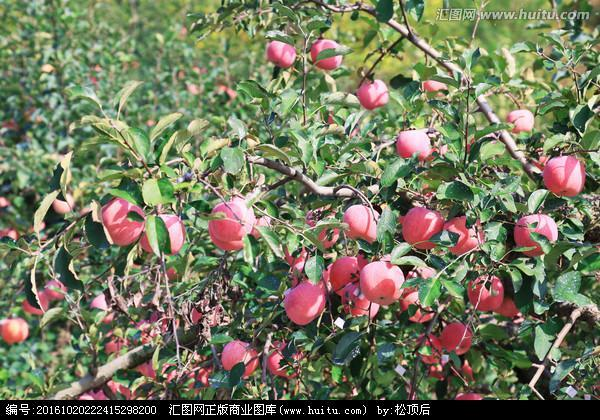apple: (99, 195, 144, 245), (358, 260, 403, 305), (541, 155, 584, 198), (283, 280, 325, 324), (142, 214, 184, 257), (515, 213, 557, 256), (210, 202, 252, 241), (221, 340, 258, 375), (468, 276, 504, 310), (396, 127, 431, 161), (440, 322, 472, 356), (356, 78, 387, 109), (265, 40, 295, 67), (311, 44, 345, 67), (309, 38, 340, 62), (504, 108, 533, 133), (1, 317, 28, 343), (314, 54, 341, 70), (51, 194, 72, 213)
